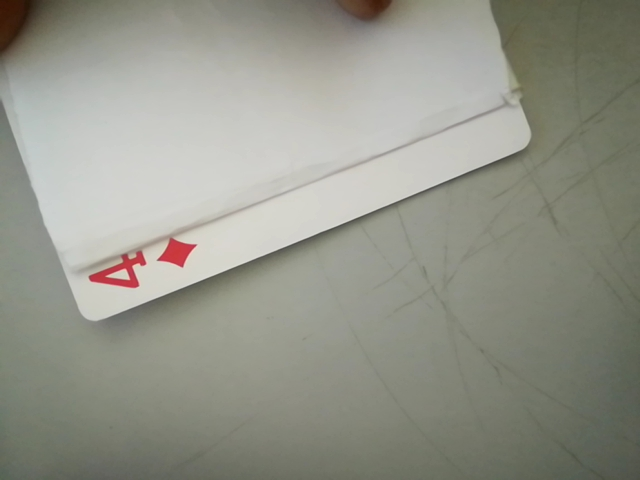fk 4: (77, 232, 204, 303)
